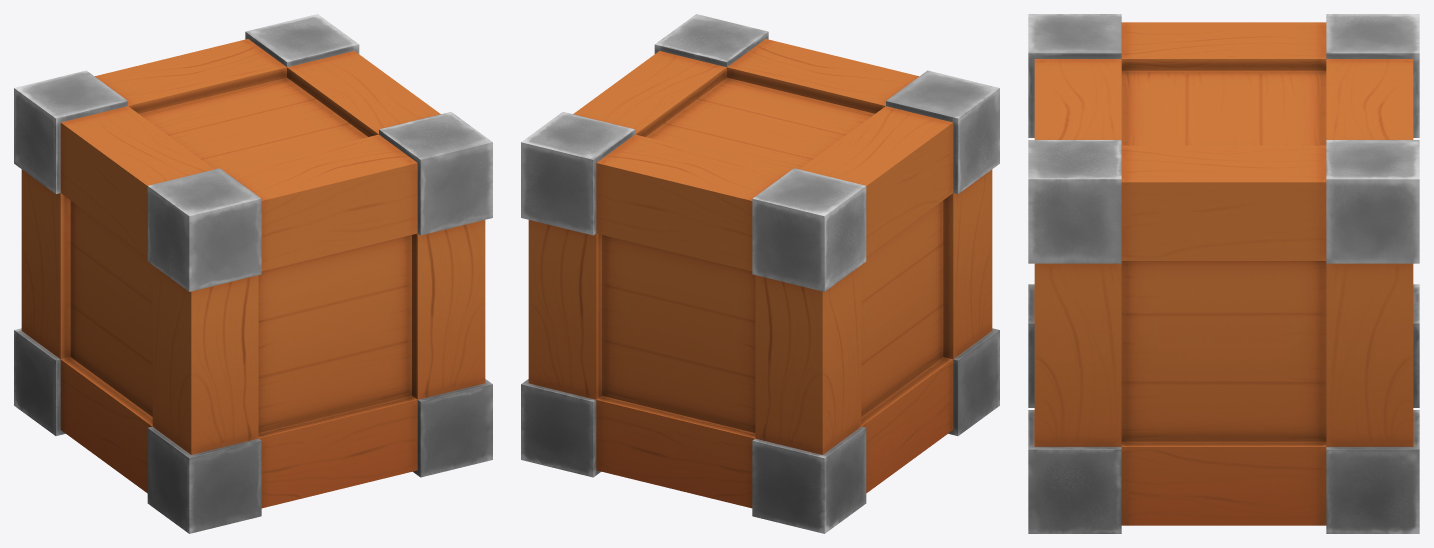
The picture shows the model from 3 angles, left to right: view 1: azimuth 30°, elevation 25°; view 2: azimuth 150°, elevation 25°; view 3: azimuth 270°, elevation 25°; orthographic projection. The views are drawn at different scales.
Visible parts, largest first — view 1: wooden; view 2: wooden; view 3: wooden.
Boxes of the visible parts, x1,y1,x2,y2 form: wooden: (14,14,492,533); wooden: (521,14,999,533); wooden: (1028,14,1419,533).
Bounding box in the file's own units: 1 × 1 × 1.
Materials: 1 (1 with a texture image).
